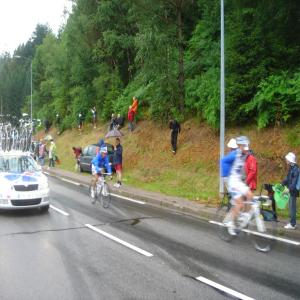Vehicle-registration-plate: (19, 195, 36, 200)
